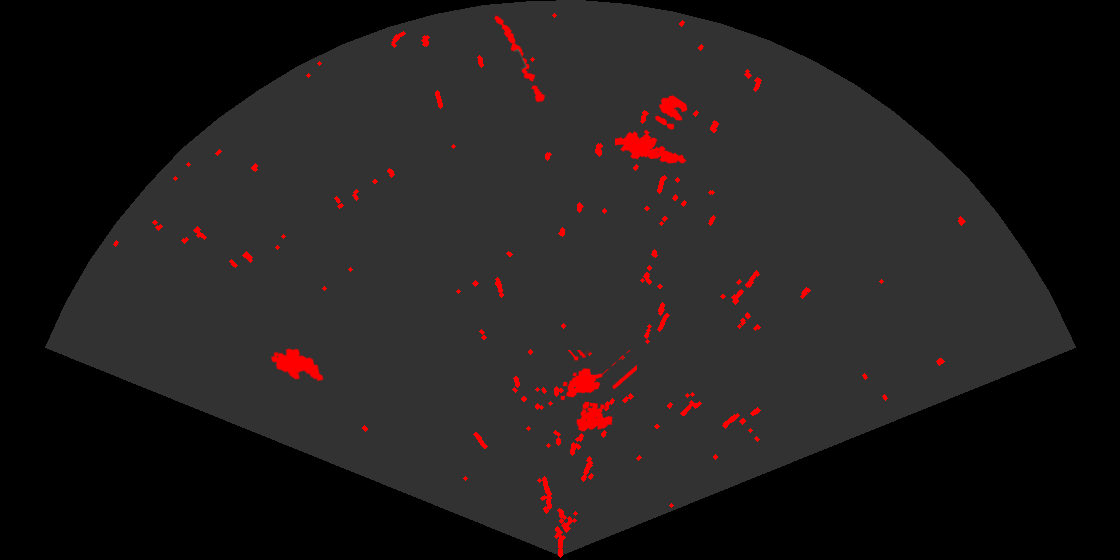AUV: (269, 347, 325, 383)
ball: (654, 94, 689, 131)
cage: (559, 350, 637, 433)
chain: (493, 14, 546, 104)
frogman: (615, 128, 687, 165)
